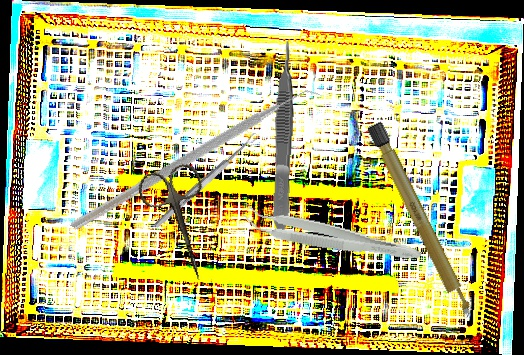Chopper: (70, 19, 329, 306)
Iris Scissors: (135, 160, 228, 290)
Scalpel Handle: (366, 120, 476, 323)
Surgical Spoon: (152, 131, 261, 230)
Tissue Forceps: (238, 201, 425, 268), (269, 38, 300, 234)
